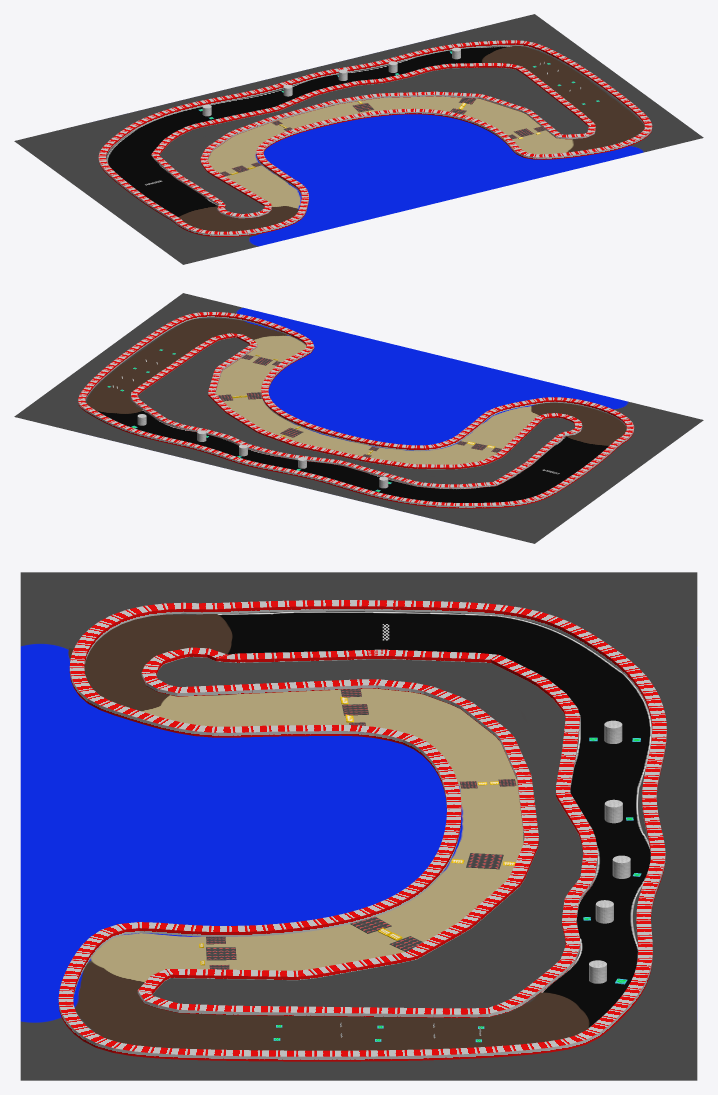
File: track_resort.fbx
3 renders of one model, top to bottom at view 1: azimuth 30°, elevation 25°; view 2: azimuth 150°, elevation 25°; view 3: azimuth 270°, elevation 25°, orthographic. The views are drawn at different scales.
Visible parts, largest first — view 1: track, solid_rail_smooth.001, solid_rail_smooth; view 2: track, solid_rail_smooth.001, solid_rail_smooth; view 3: track, solid_rail_smooth.001, solid_rail_smooth.
Part boxes in pixels (bbox=[...]): track: bbox=[14, 14, 703, 264]; solid_rail_smooth.001: bbox=[98, 40, 652, 236]; solid_rail_smooth: bbox=[151, 63, 595, 218]; track: bbox=[14, 293, 703, 543]; solid_rail_smooth.001: bbox=[78, 312, 634, 508]; solid_rail_smooth: bbox=[131, 333, 582, 488]; track: bbox=[20, 572, 697, 1080]; solid_rail_smooth.001: bbox=[58, 600, 666, 1061]; solid_rail_smooth: bbox=[137, 647, 597, 1017].
Size of what is drawn, in the model's own units: 13293 by 293 by 7480.
9 materials, 9 textured.
